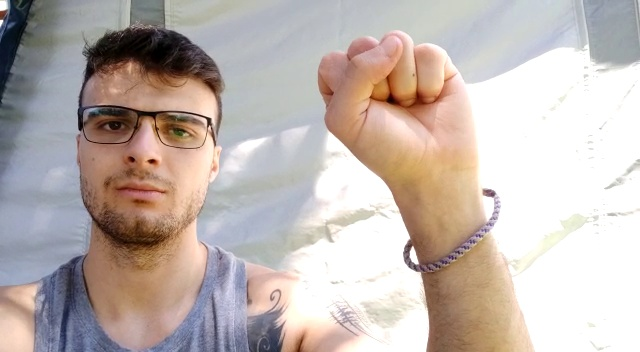Fist: (313, 28, 496, 188)
